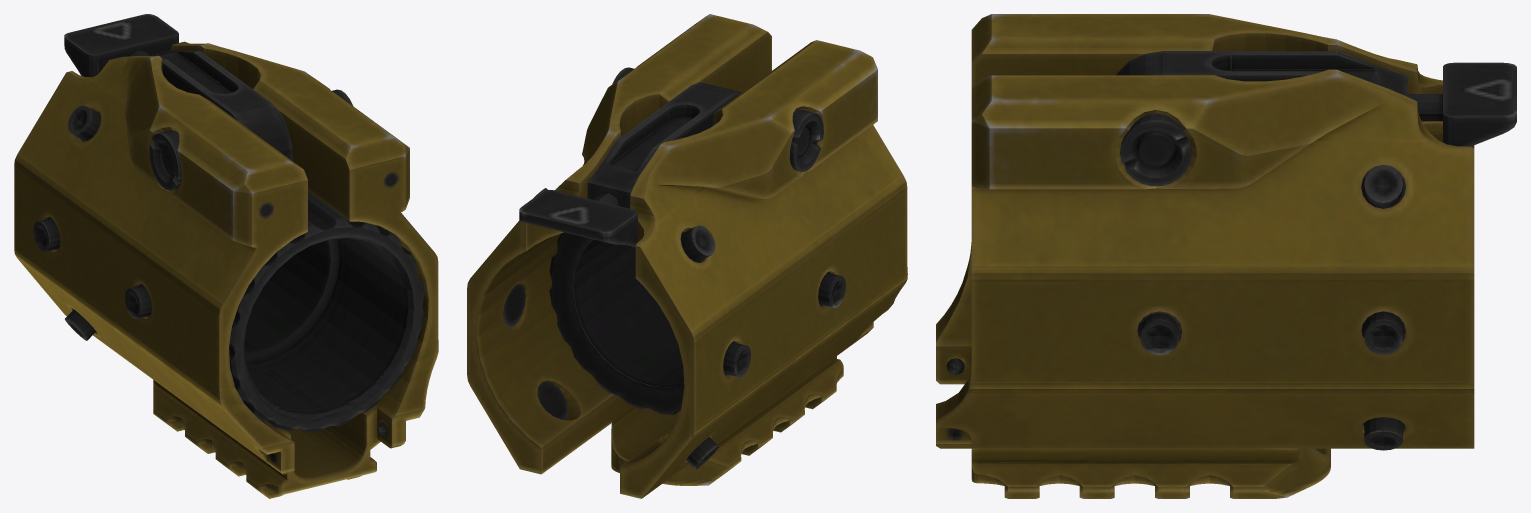
The picture shows the model from 3 angles, left to right: view 1: azimuth 30°, elevation 25°; view 2: azimuth 150°, elevation 25°; view 3: azimuth 270°, elevation 25°; orthographic projection. The views are drawn at different scales.
Parts seen in each view (by area): view 1: TW_68a6fff085a17dc1cb008066_PZ_Import; view 2: TW_68a6fff085a17dc1cb008066_PZ_Import; view 3: TW_68a6fff085a17dc1cb008066_PZ_Import.
Part boxes in pixels (x1,y1,x2,y2): TW_68a6fff085a17dc1cb008066_PZ_Import: (14,14,438,498); TW_68a6fff085a17dc1cb008066_PZ_Import: (467,14,907,498); TW_68a6fff085a17dc1cb008066_PZ_Import: (936,14,1516,498).
Bounding box in the file's own units: 0.026 × 0.0447 × 0.0353.
Materials: 1 (1 with a texture image).
